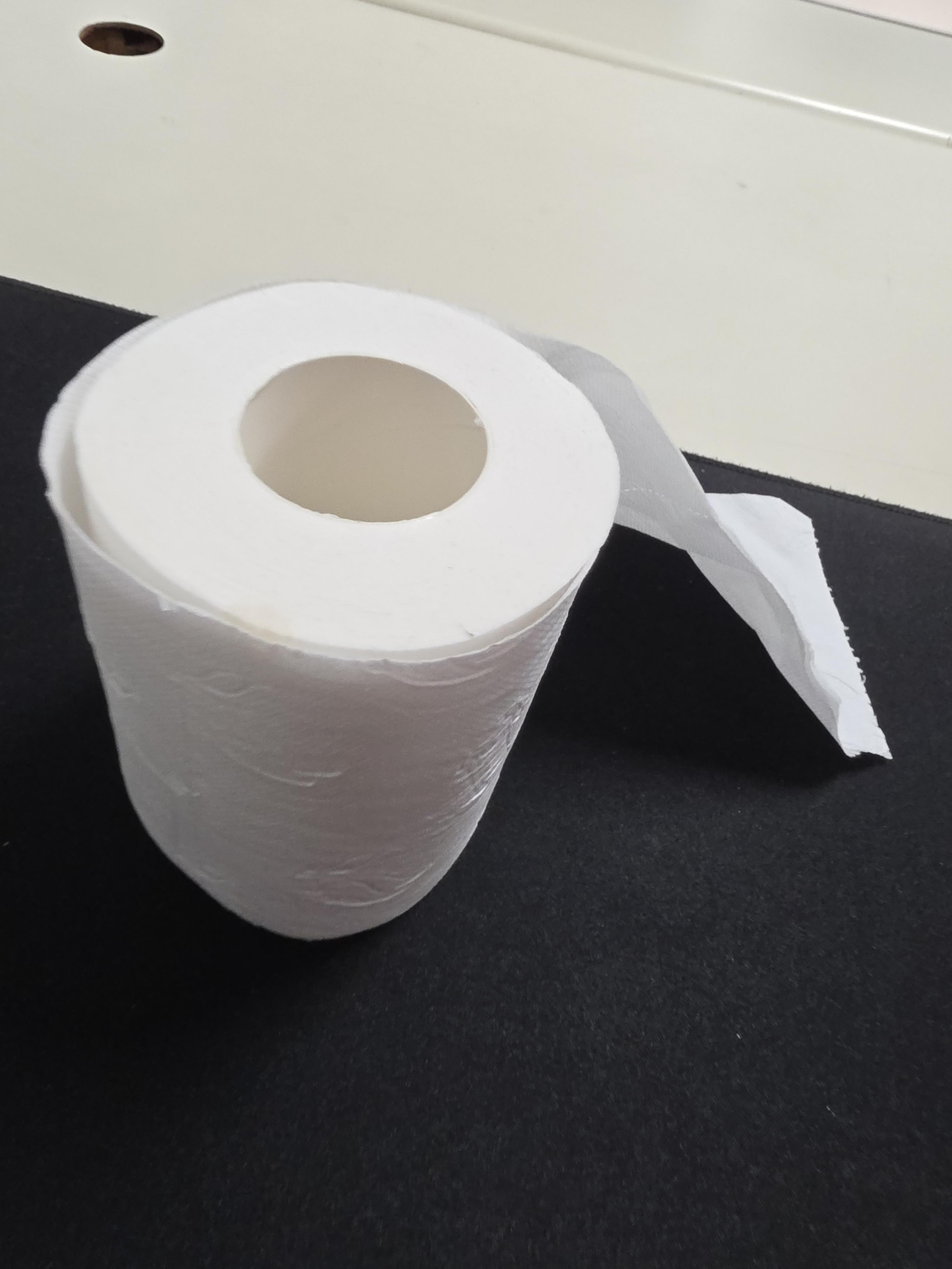tissue: (38, 280, 891, 942)
